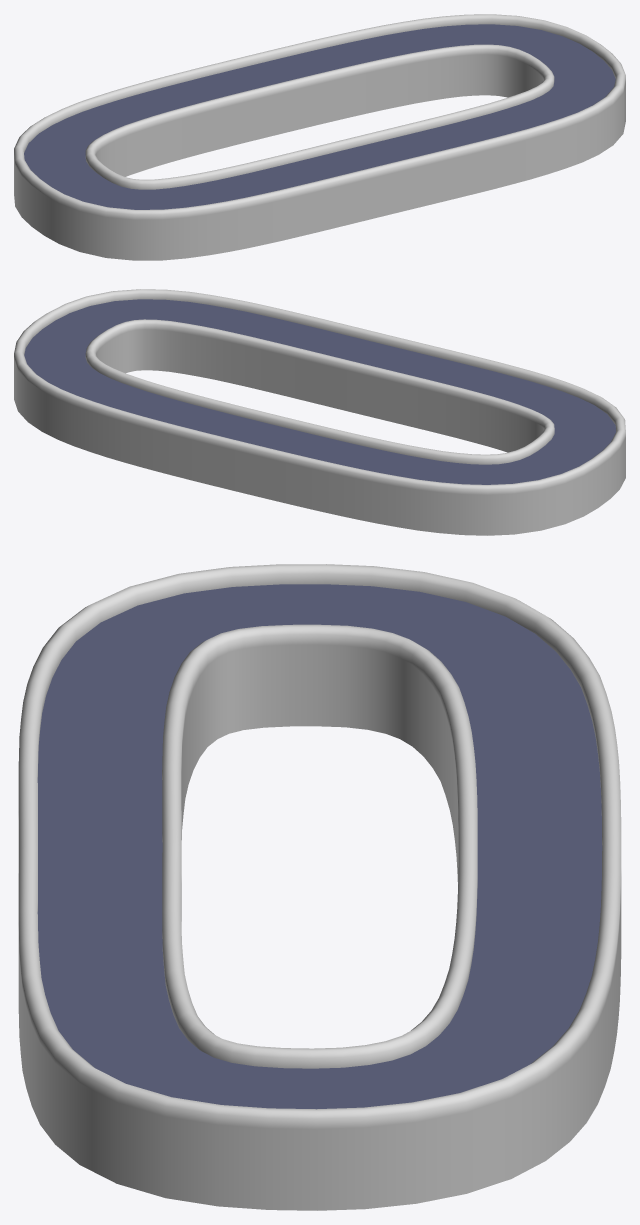
Rendered from ConveyorBelt.glb.
3 renders of one model, top to bottom at view 1: azimuth 30°, elevation 25°; view 2: azimuth 150°, elevation 25°; view 3: azimuth 270°, elevation 25°, orthographic. The views are drawn at different scales.
Parts seen in each view (by area): view 1: Cube; view 2: Cube; view 3: Cube.
Part boxes in pixels (x1=…): Cube: x1=14, y1=14, x2=625, y2=260; Cube: x1=14, y1=289, x2=625, y2=535; Cube: x1=18, y1=564, x2=621, y2=1210.
Size of the model in its own units: 13.68 by 1.11 by 6.3.
